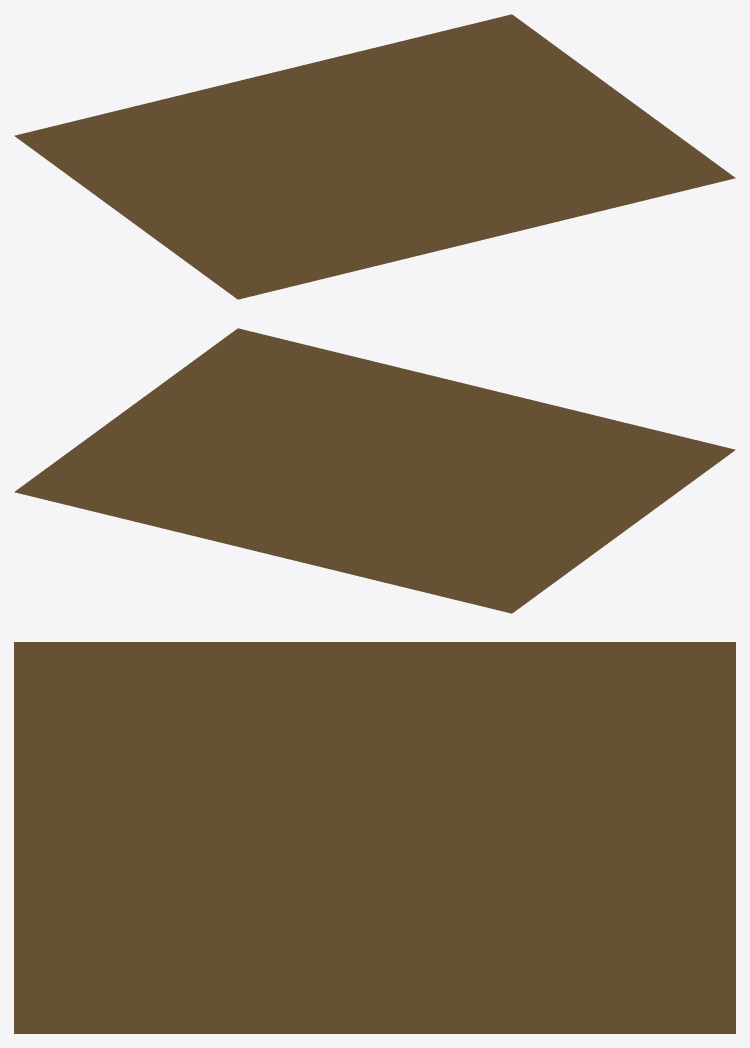
The model's file is Platfrom.fbx.
3 renders of one model, top to bottom at view 1: azimuth 30°, elevation 25°; view 2: azimuth 150°, elevation 25°; view 3: azimuth 270°, elevation 25°, orthographic. The views are drawn at different scales.
Parts seen in each view (by area): view 1: PlatformFloor; view 2: PlatformFloor; view 3: PlatformFloor.
Boxes of the visible parts, bbox=[...] form: PlatformFloor: bbox=[14, 14, 735, 299]; PlatformFloor: bbox=[14, 328, 735, 613]; PlatformFloor: bbox=[14, 642, 735, 1033].
Size of the model in its own units: 98.48 by 4.7e-15 by 76.7.
